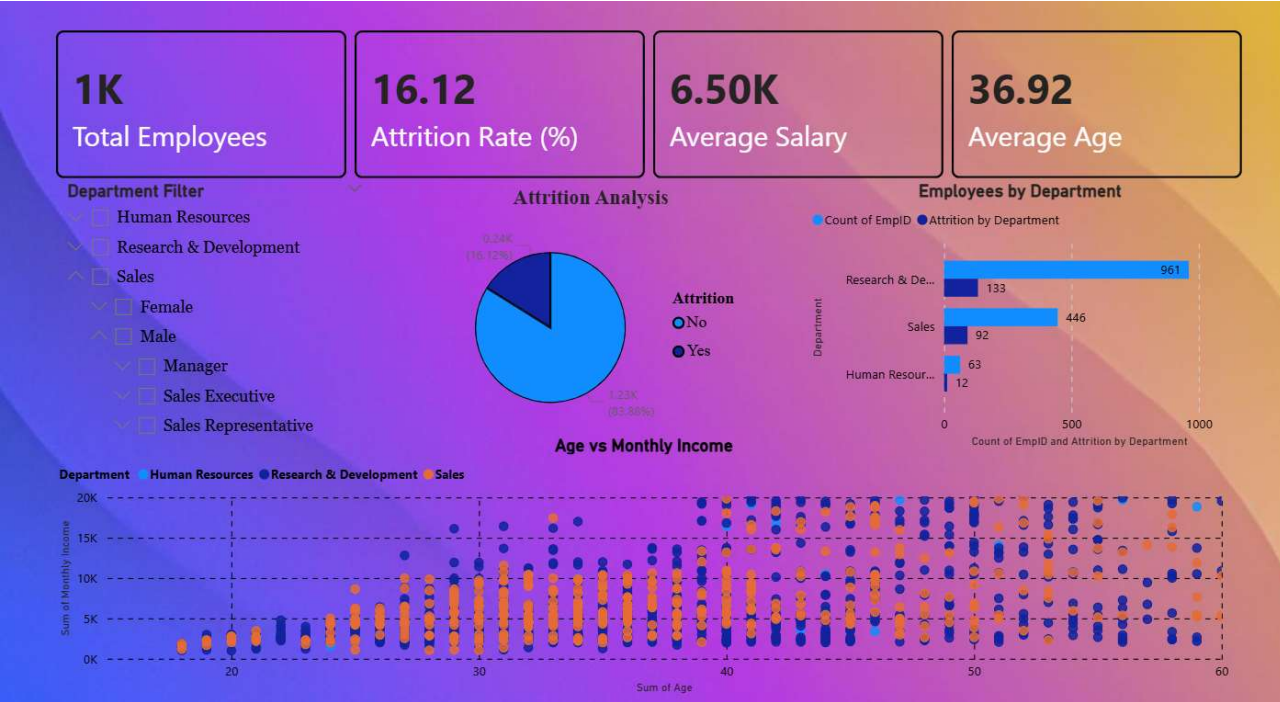

The dashboard page shown, as its layout file describes it:
{"tool":"powerbi","page":{"name":"Page 1","canvas":[1280,720],"ordinal":0},"visuals":[{"type":"cardVisual","fields":{"Data":["HR_Analytics.Total Employees","HR_Analytics.Attrition Rate (%)","HR_Analytics.Average Salary","HR_Analytics.Average Age"]},"box":[59.4,26.5,1191.3,178.3],"z":0},{"type":"pieChart","title":"Attrition Analysis","fields":{"Category":["HR_Analytics.Attrition"],"Y":["CountNonNull(HR_Analytics.Attrition)"]},"box":[434.5,195.5,326.4,254.5],"z":1000},{"type":"clusteredBarChart","title":"Employees by Department","fields":{"Category":["HR_Analytics.Department"],"Y":["CountNonNull(HR_Analytics.EmpID)","HR_Analytics.Attrition by Department"]},"box":[808.2,190,416.4,264.5],"z":2000},{"type":"scatterChart","title":"Age vs Monthly Income","fields":{"Category":["HR_Analytics.EmpID"],"X":["Sum(HR_Analytics.Age)"],"Series":["HR_Analytics.Department"],"Y":["Sum(HR_Analytics.Monthly Income)"]},"box":[74.5,438.2,1150,257.3],"z":3000},{"type":"slicer","fields":{"Values":["HR_Analytics.Department","HR_Analytics.Gender","HR_Analytics.Job Role","HR_Analytics.Age Group"]},"box":[74.5,185.5,312.7,268.2],"z":4000}]}

Visuals, with their boxes in screenshot pixels (x1, y1, x2, y2), scaled from the page's 1280x720 canvas onto the 1280x702 screenshot:
cardVisual - HR_Analytics.Total Employees x HR_Analytics.Attrition Rate (%): (x1=59, y1=26, x2=1251, y2=200)
"Attrition Analysis" pieChart: (x1=434, y1=191, x2=761, y2=439)
"Employees by Department" clusteredBarChart: (x1=808, y1=185, x2=1225, y2=443)
"Age vs Monthly Income" scatterChart: (x1=74, y1=427, x2=1224, y2=678)
slicer - HR_Analytics.Department x HR_Analytics.Gender: (x1=74, y1=181, x2=387, y2=442)
